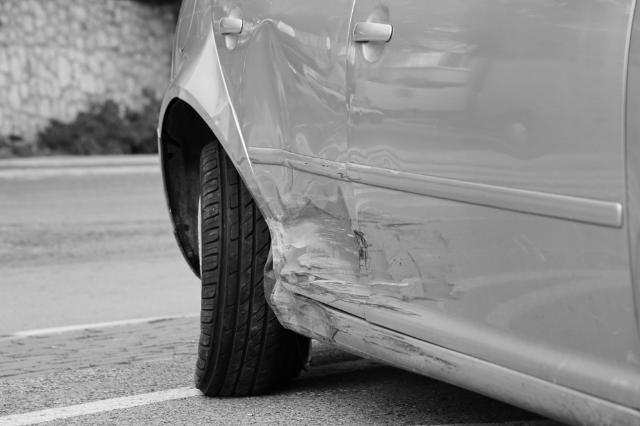Door: (210, 34, 369, 317), (352, 104, 464, 348)
